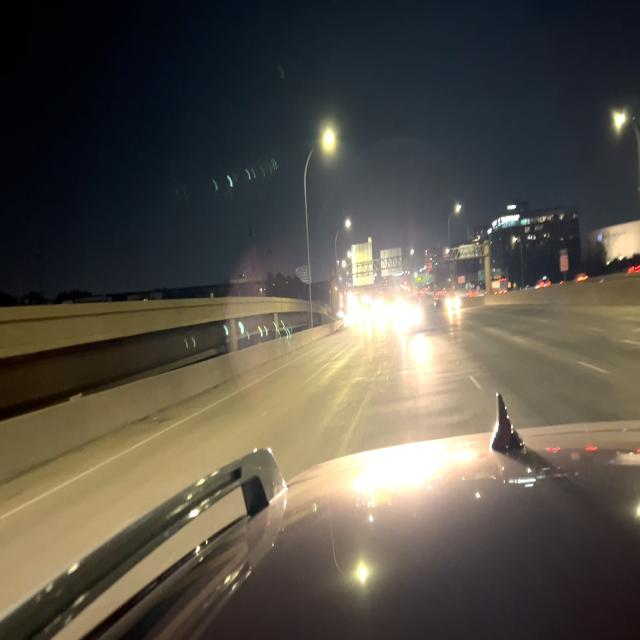back-of-sign: (351, 236, 375, 290), (380, 246, 403, 277), (458, 241, 478, 261)
